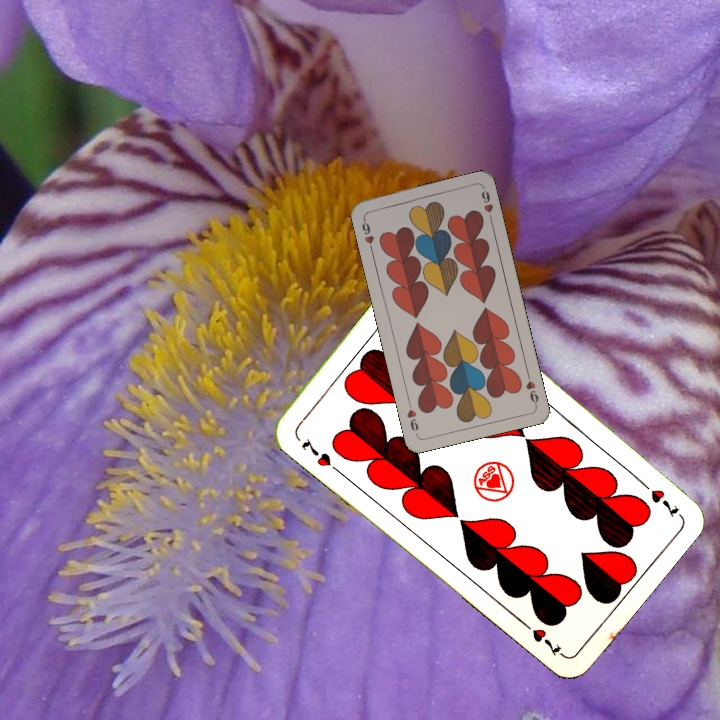H7: (634, 474, 681, 519), (297, 434, 343, 476)
H9: (522, 368, 541, 408), (358, 214, 377, 254)
